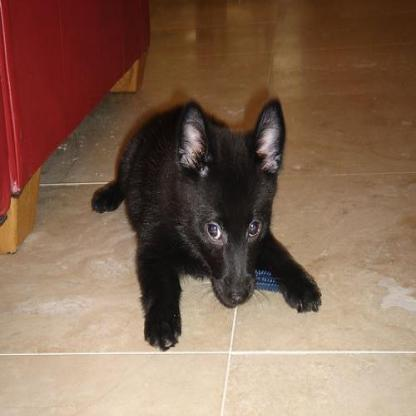schipperke: (87, 92, 323, 351)
